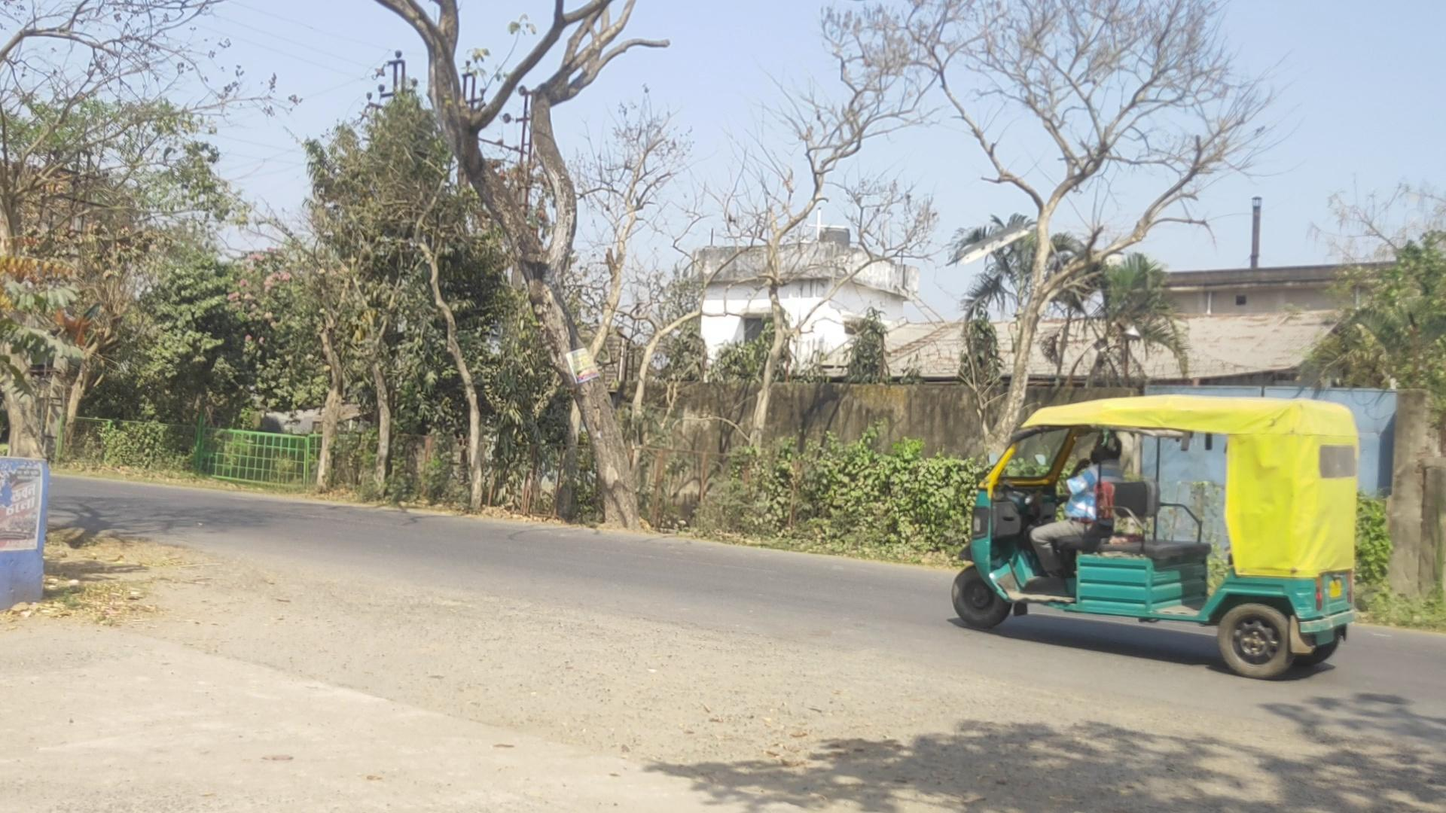Auto: (951, 394, 1359, 679)
